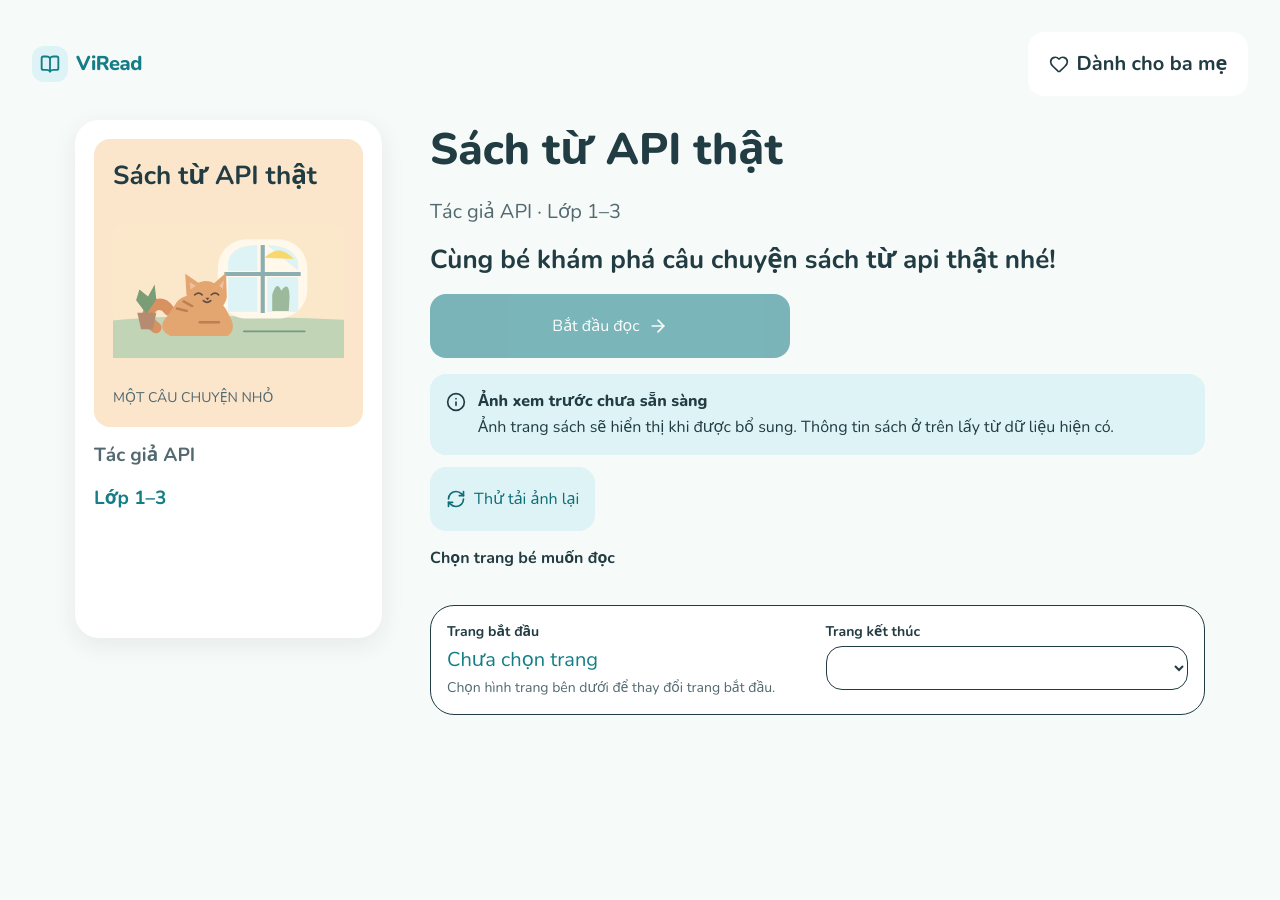
Scenario: Books UI with real service HTTP test doubles › retries an unavailable preview and renders the real image URL without sample text
Expected: the text "Ảnh xem trước chưa sẵn sàng" is shown, 478,390 -> 707,412
Click the button "Thử tải ảnh lại".
click(513, 499)  # box 430,467 -> 595,531
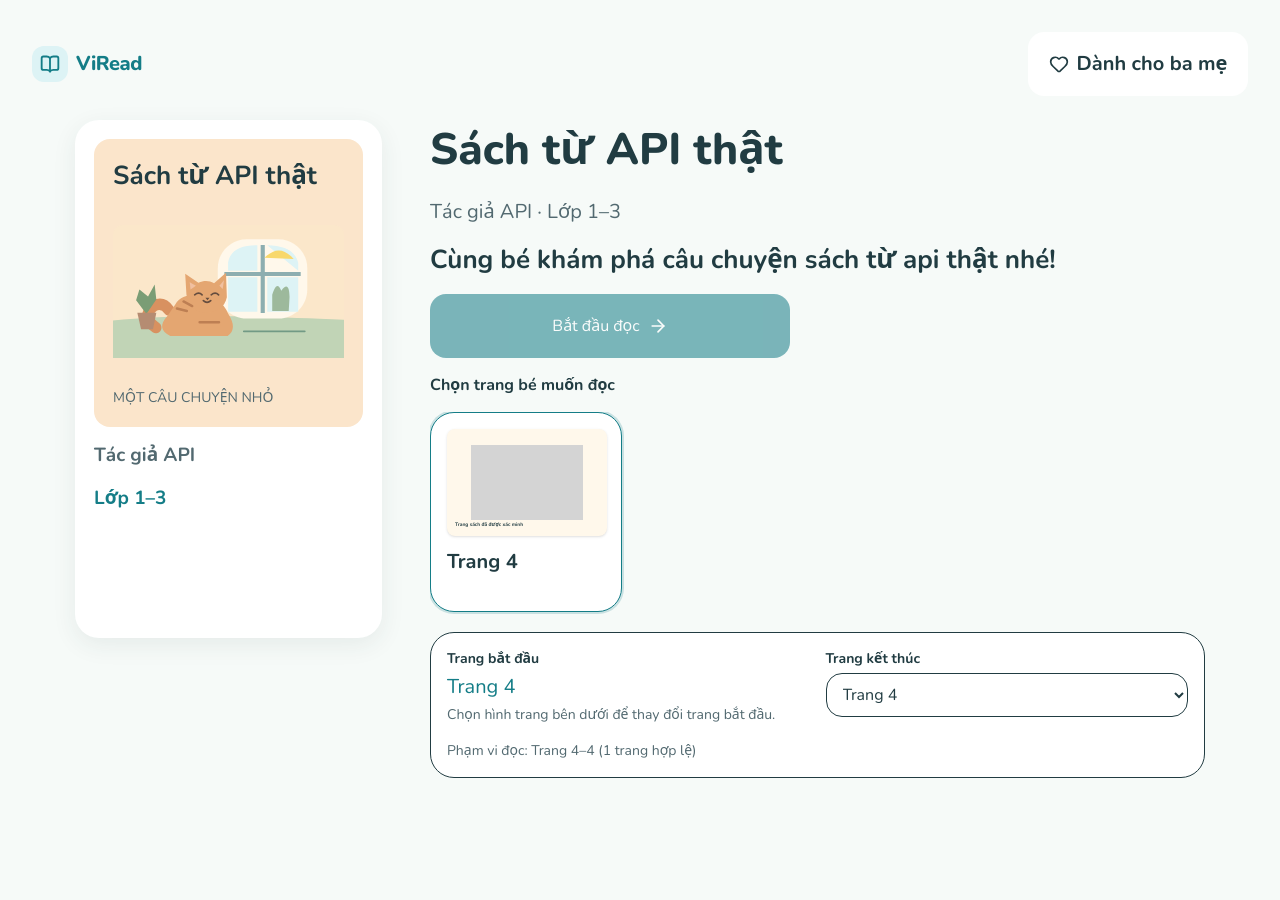
Now the text "Ảnh xem trước chưa sẵn sàng" is gone
